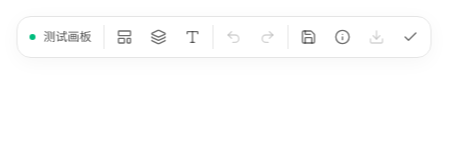
DesignInlineEditor › stays open when preview refresh fails
Click the button named "完成": coordinates (410, 37) [394,21,426,53]
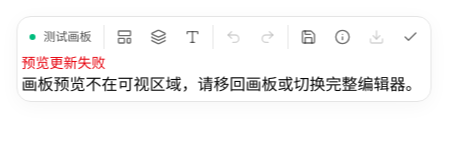
expect the text "预览更新失败" is shown: met, box [22,54,106,72]
